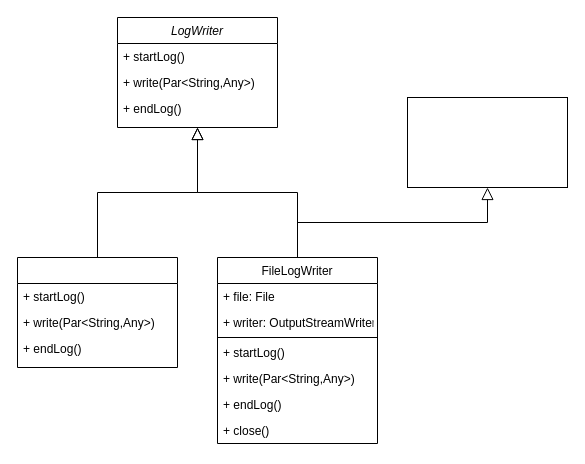
This 585x464 diagram has some shape labels left out. The shapes that lost their labels are listed below. From the top down, each one's box as (x1, y1, x2, y2) in pixels, then its label:
(406, 96, 568, 188): Closeable + close()
(16, 256, 178, 368): Console LogWriter
